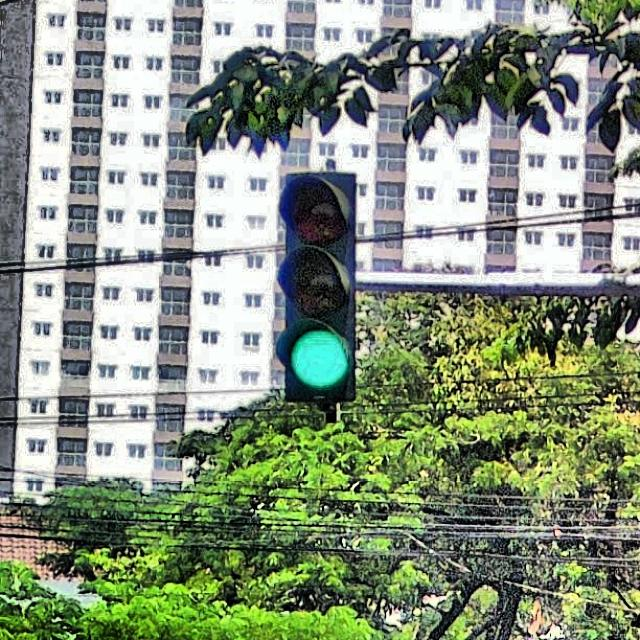green: (277, 170, 359, 406)
